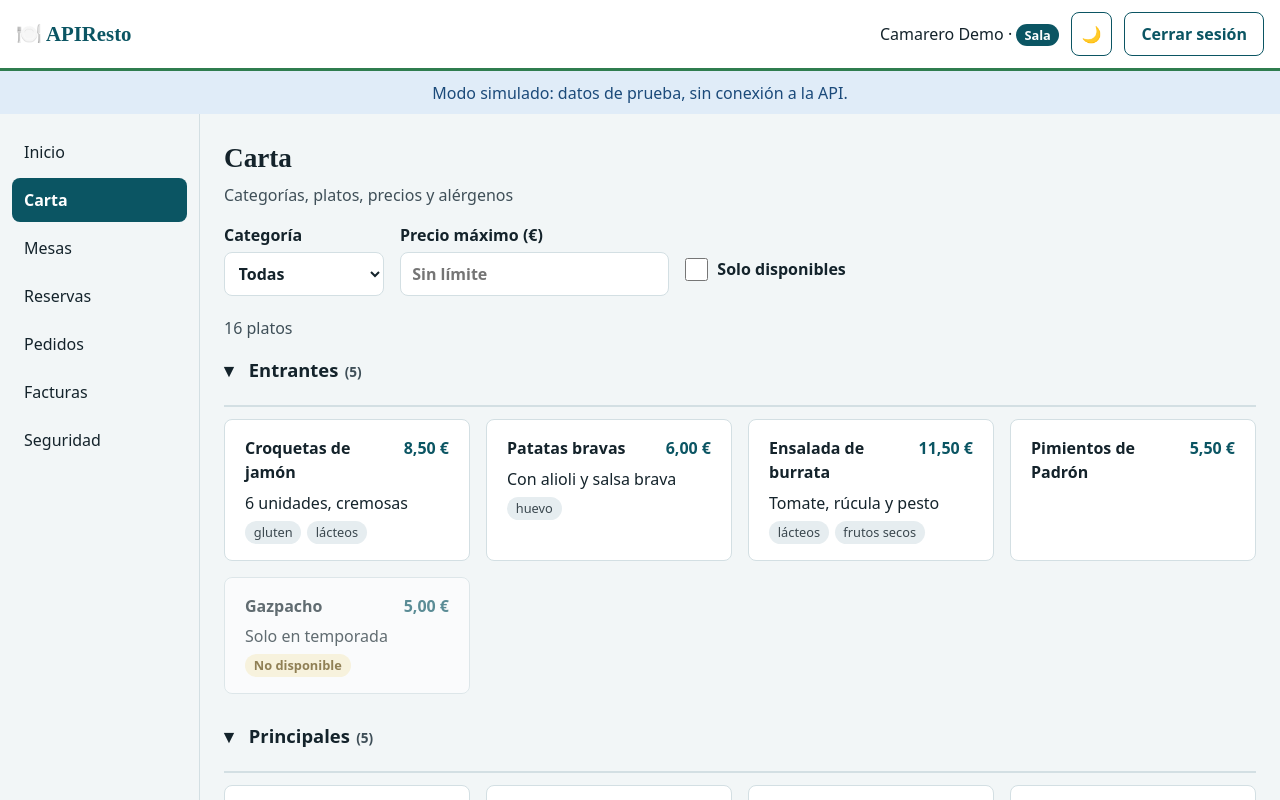
Scenario: Carta › filtra por categoría y solo muestra esa sección
Select "Postres" in the dropdown labelled "Categoría" at (304, 274), box [224,252,384,296]
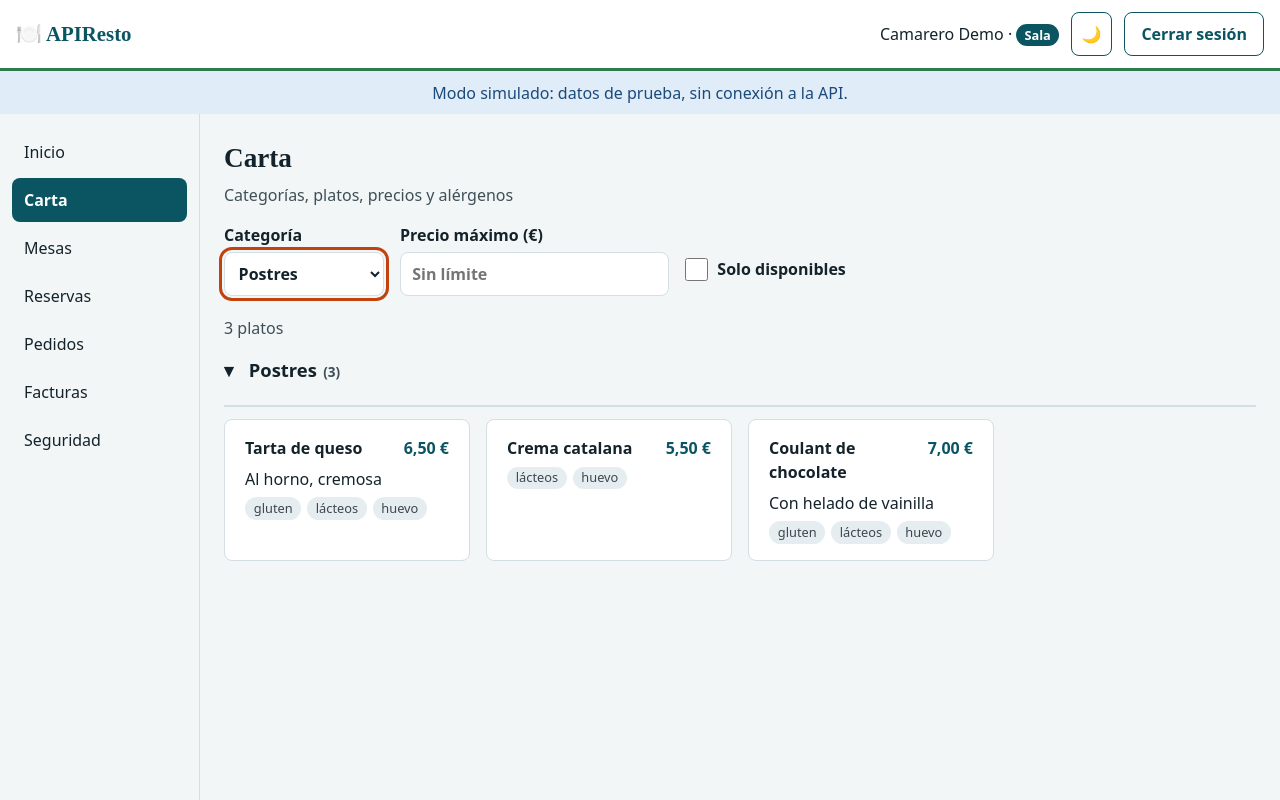
Now the text "3 platos" is shown, box [224,317,283,339]
Now the headings read "Postres (3)", in this order, box [224,356,1256,407]
Now the text "Croquetas de jamón" is gone
